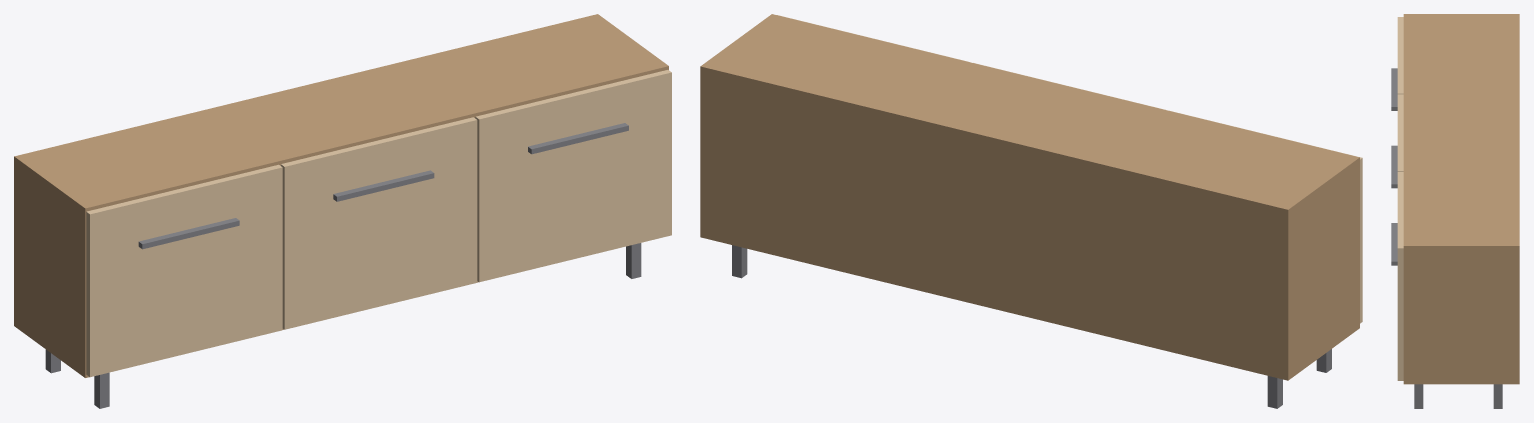
File: mueble_tv.glb
3 views of the same model, side by side, from view 1: azimuth 30°, elevation 25°; view 2: azimuth 150°, elevation 25°; view 3: azimuth 270°, elevation 25° (orthographic). The views are drawn at different scales.
Parts seen in each view (by area): view 1: Mueble; view 2: Mueble; view 3: Mueble.
Part boxes in pixels (x1,y1,x2,y2): Mueble: [14, 14, 671, 408]; Mueble: [700, 14, 1362, 408]; Mueble: [1391, 14, 1519, 408].
Bounding box in the file's own units: 1.8 × 0.62 × 0.42.
